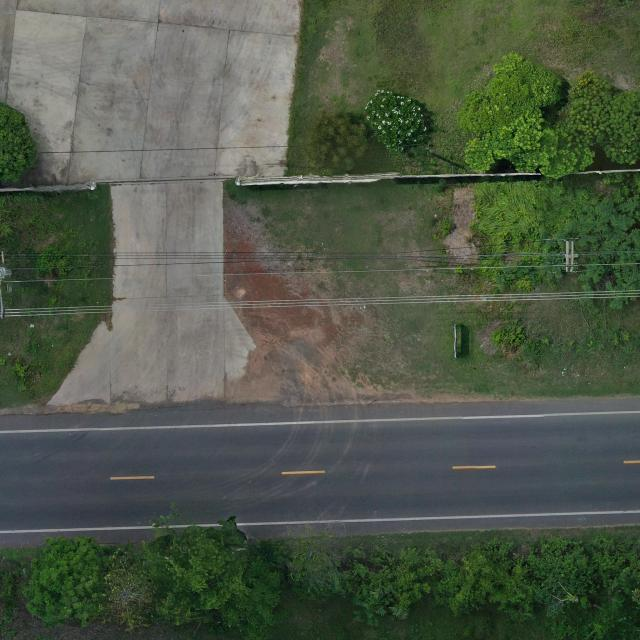Tree: (148, 514, 287, 640), (456, 50, 564, 173), (537, 68, 640, 180), (540, 532, 640, 640), (436, 533, 540, 618), (23, 534, 107, 627), (348, 538, 442, 620), (103, 546, 155, 634), (303, 108, 367, 177), (364, 90, 428, 152), (289, 536, 345, 604), (0, 100, 38, 186)
